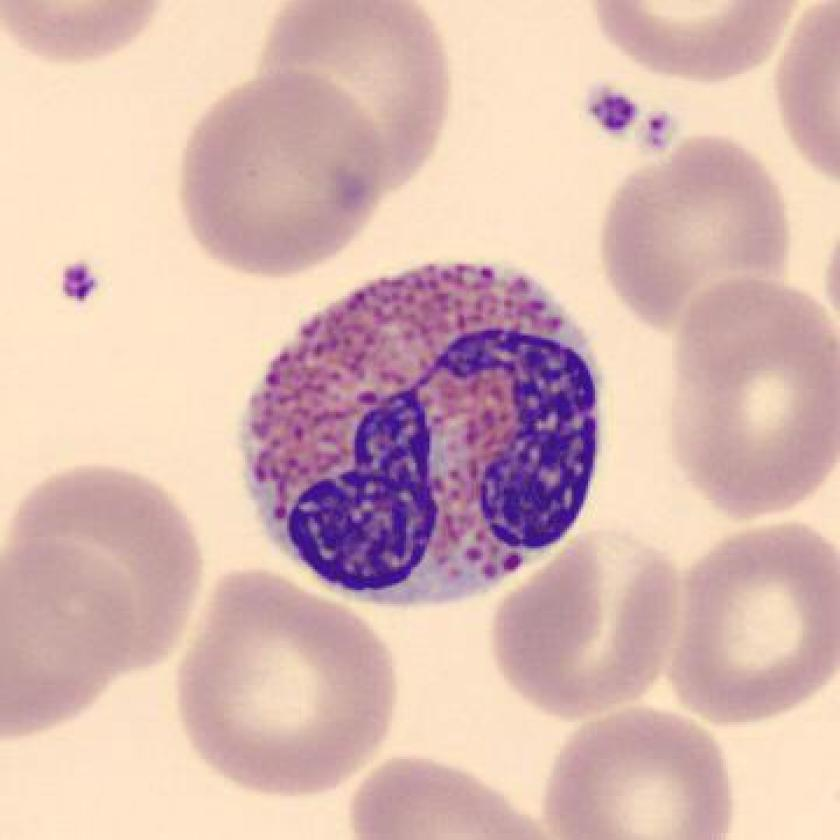eosinophil: (225, 249, 619, 628)
